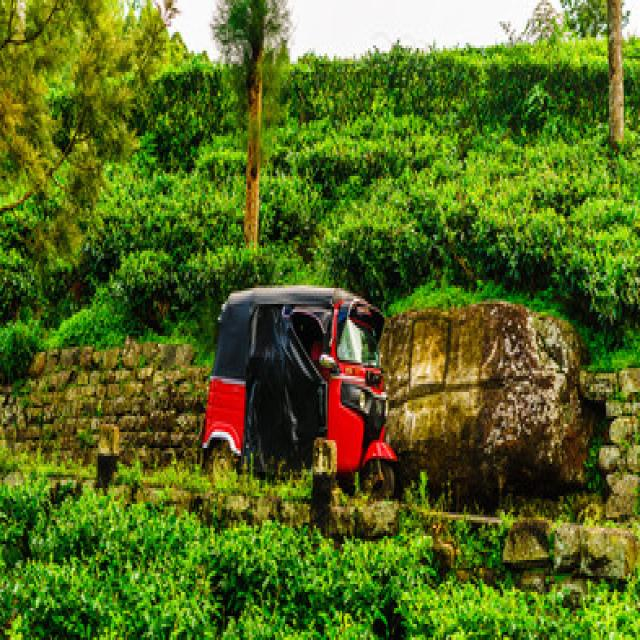three wheeler: (202, 285, 396, 499)
